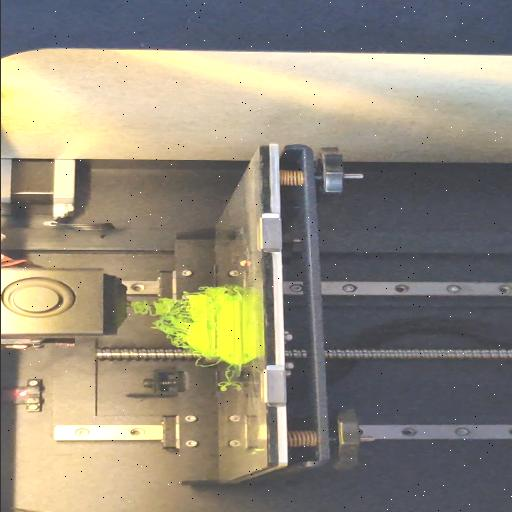spaghetti: (124, 293, 192, 350), (214, 367, 232, 391), (189, 355, 221, 367), (226, 286, 242, 292)
